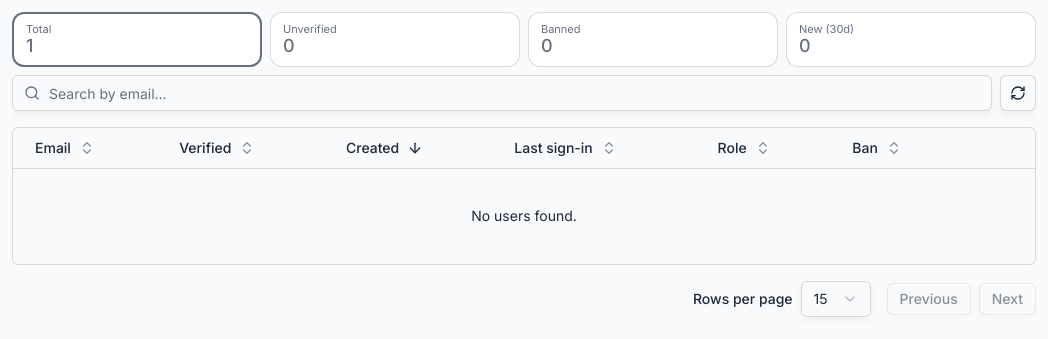
Test: UsersTable › should show filtered empty state with reset and refresh actions
This screenshot has width=1048, height=339.
Check: the button "Total 1" is shown, box [12,12,262,67]
Step 1. Click the button "Banned 0" → [653, 40], box [528,12,778,67]
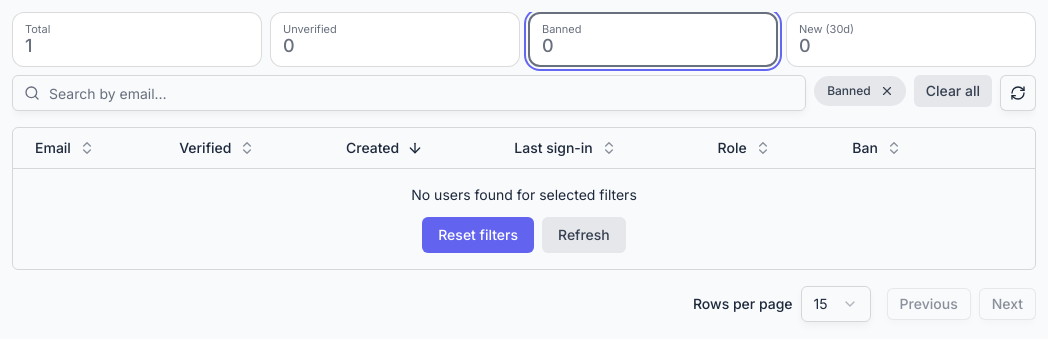
Check: the text "No users found for selected filters" is shown, box [411,184,637,204]
Check: the button "Reset filters" is shown, box [422,216,534,252]
Check: the button "Refresh" is shown, box [542,216,626,252]
